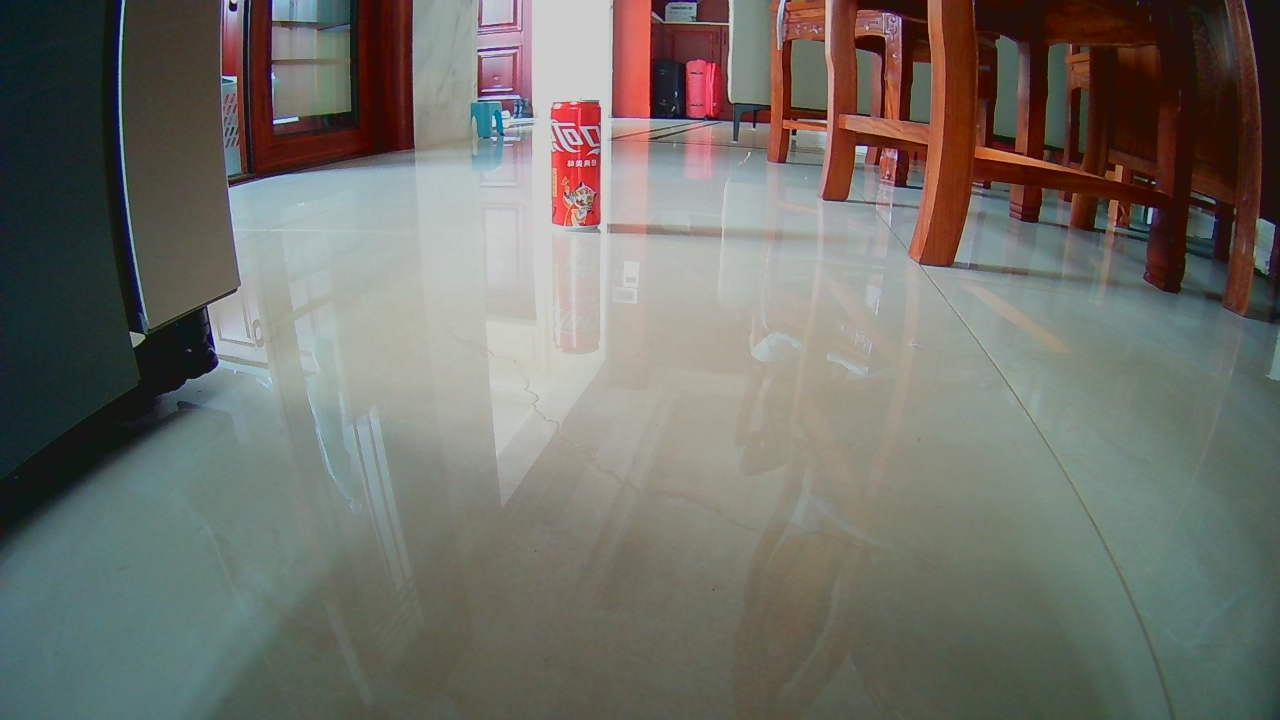cola: (549, 98, 602, 234)
